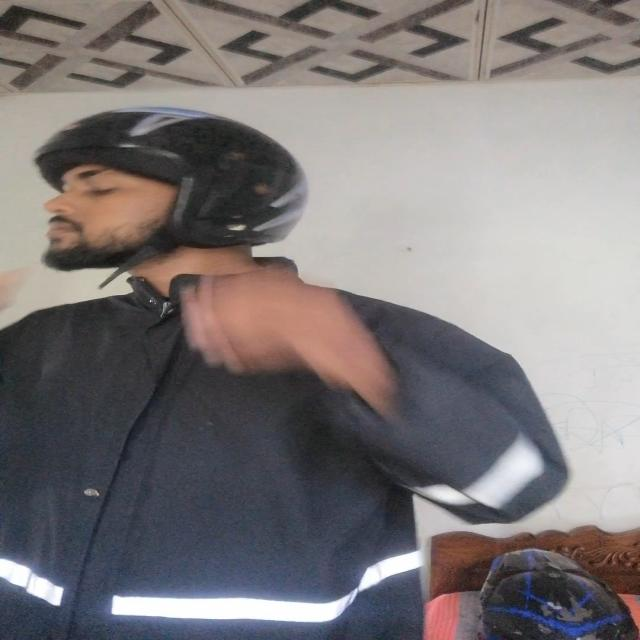Helmet_Wearer: (23, 104, 322, 284)
Jacket_Wearer: (0, 264, 548, 640)
Person: (0, 104, 570, 637)
